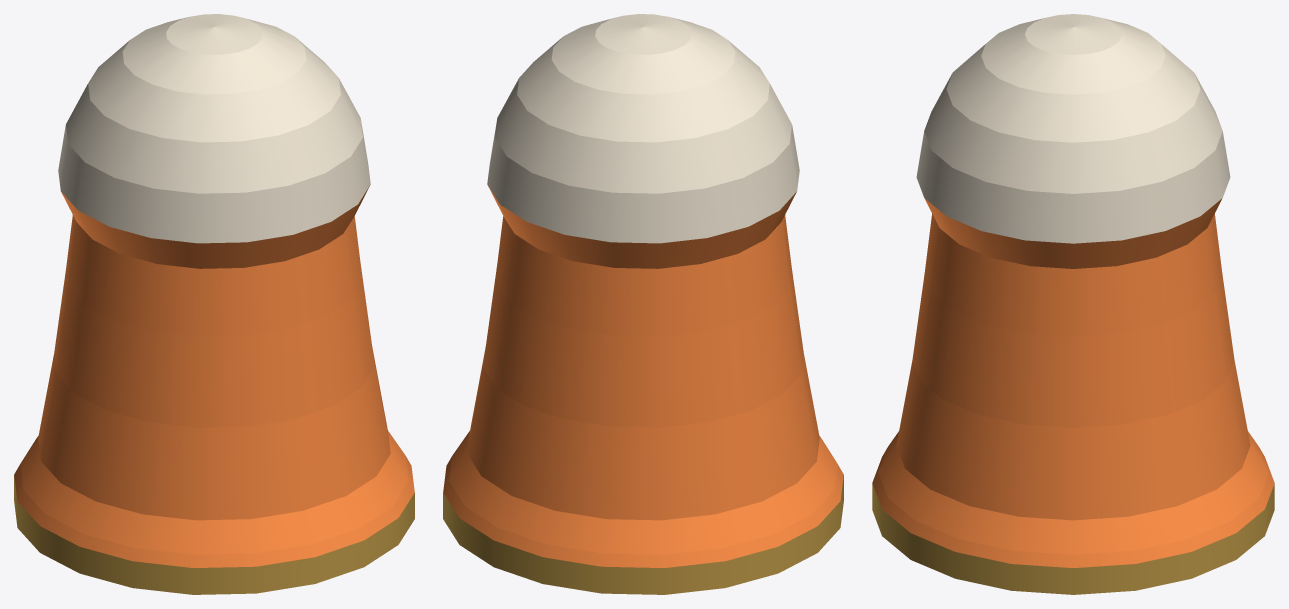
File: pawn_ai.glb
The picture shows the model from 3 angles, left to right: view 1: azimuth 30°, elevation 25°; view 2: azimuth 150°, elevation 25°; view 3: azimuth 270°, elevation 25°; orthographic projection.
Parts seen in each view (by area): view 1: pawn_ai; view 2: pawn_ai; view 3: pawn_ai.
Part boxes in pixels (box(x1,y1,x2,y2)): pawn_ai: box(14, 14, 414, 594); pawn_ai: box(443, 14, 843, 594); pawn_ai: box(872, 14, 1274, 594).
Bounding box in the file's own units: 0.034 × 0.045 × 0.034.
